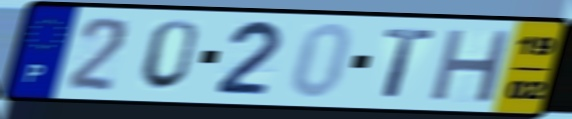0: (287, 21, 358, 101), (134, 18, 201, 94)
2: (213, 17, 286, 101), (62, 15, 130, 93)
H: (426, 26, 516, 105)
T: (380, 26, 438, 101)
